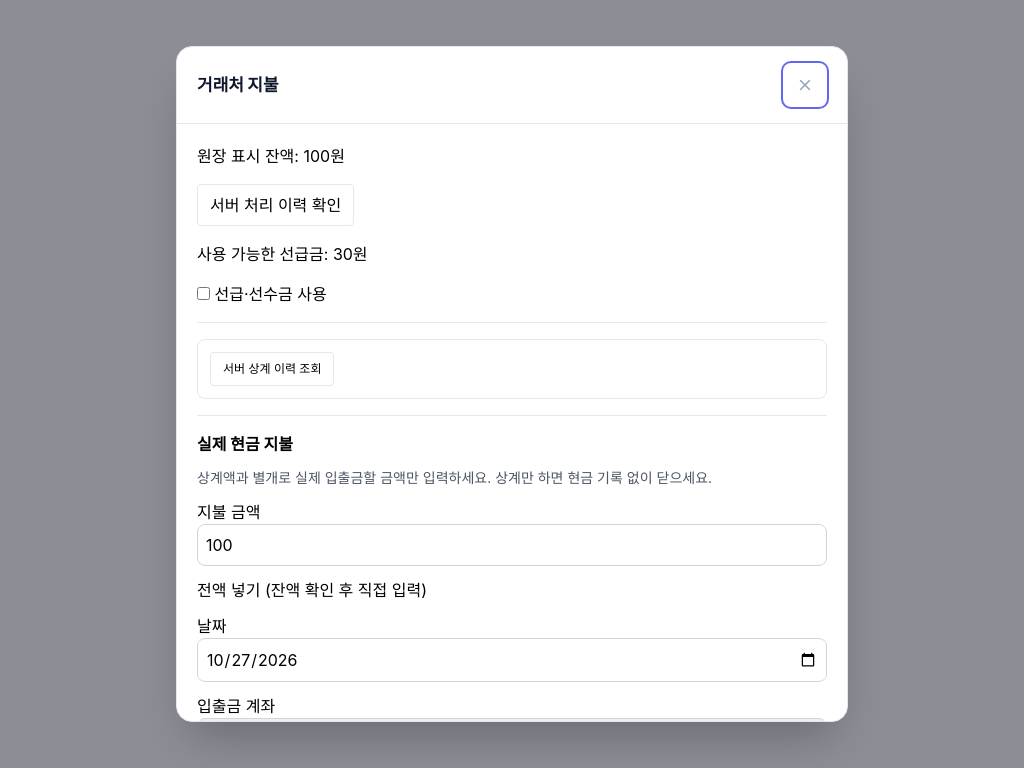
상계실패unknown이면현금0·원문복구외새상계차단
The width and height of the screenshot is (1024, 768).
Click the checkbox labelled "선급·선수금 사용" at (204, 294), box [197,287,210,300]
(page scrolled)
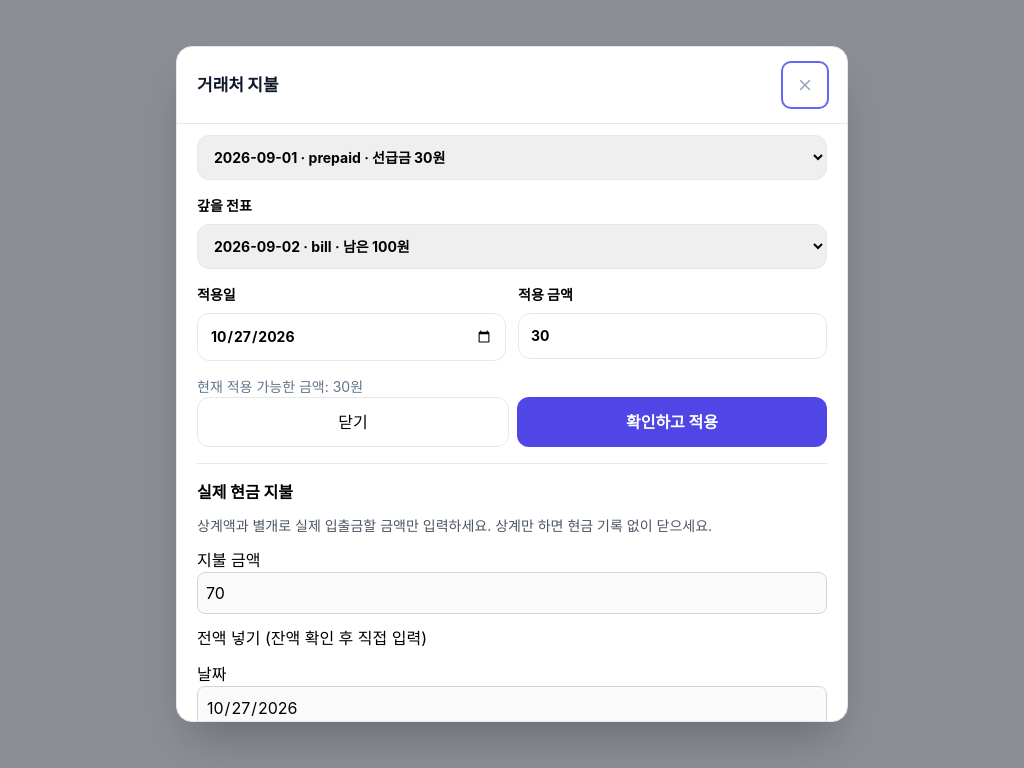
Click the button "확인하고 적용" at (672, 422), box [517,397,827,447]
(page scrolled)
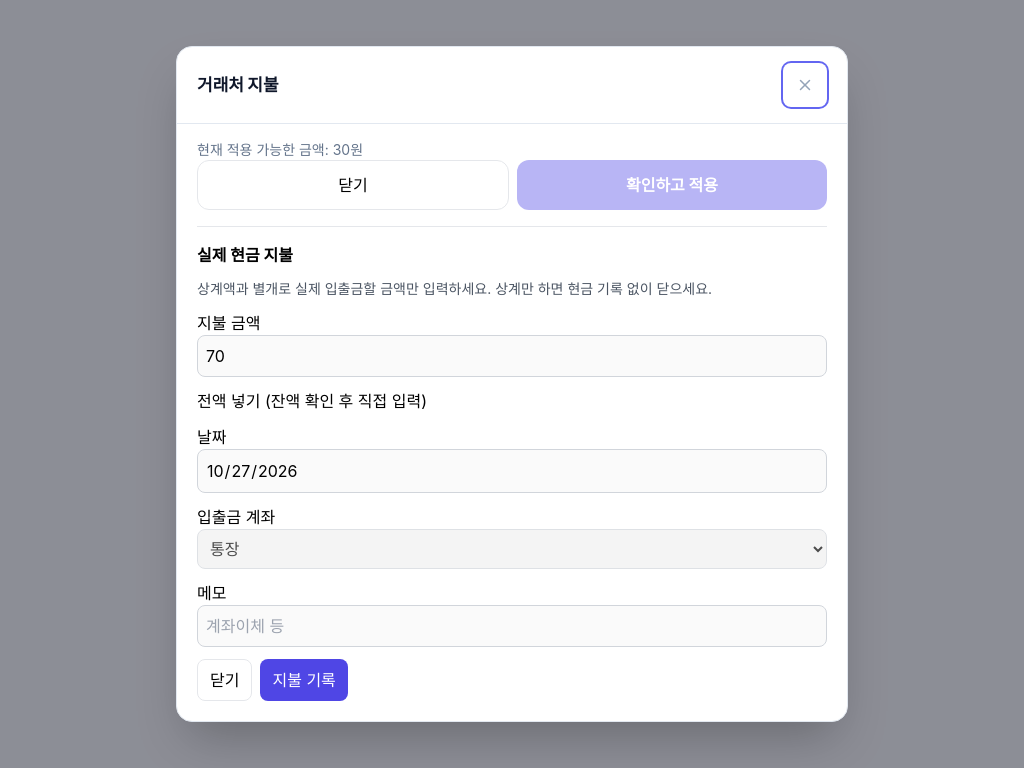
Expected: the button "지불 기록" is disabled, [260,659,348,701]
